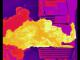Foc: (36, 18, 76, 51), (2, 20, 34, 50)
